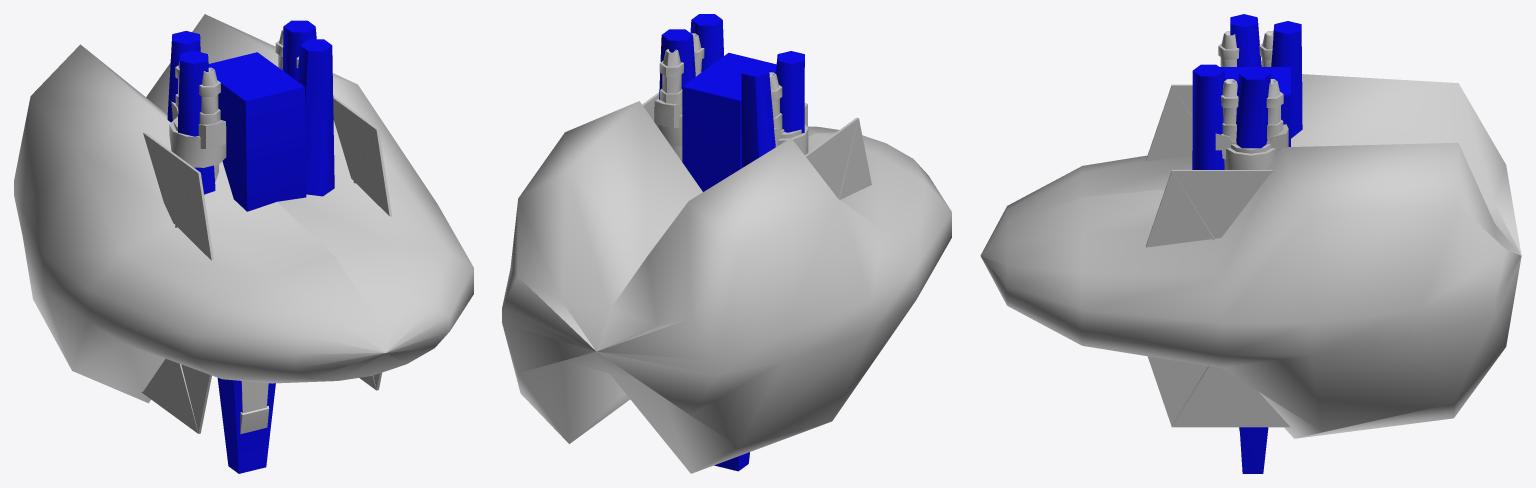
Rendered from Underworld_Black_Sun_ZTIE.obj.
The picture shows the model from 3 angles, left to right: view 1: azimuth 30°, elevation 25°; view 2: azimuth 150°, elevation 25°; view 3: azimuth 270°, elevation 25°; orthographic projection. The views are drawn at different scales.
Visible parts, largest first — view 1: Shield, COL, TIE_Fighter, chassis; view 2: Shield, COL, chassis, TIE_Fighter; view 3: Shield, TIE_Fighter, COL, chassis.
Boxes of the visible parts, x1,y1,x2,y2 form: Shield: [14, 14, 473, 403]; COL: [167, 20, 334, 473]; TIE_Fighter: [141, 96, 392, 433]; chassis: [169, 29, 298, 434]; Shield: [502, 101, 951, 473]; COL: [659, 14, 804, 471]; chassis: [654, 33, 808, 161]; TIE_Fighter: [642, 92, 871, 199]; Shield: [980, 74, 1521, 438]; TIE_Fighter: [1145, 84, 1290, 427]; COL: [1192, 14, 1302, 473]; chassis: [1215, 31, 1288, 432].
Bounding box in the file's own units: 5.14 × 6.01 × 7.03.
